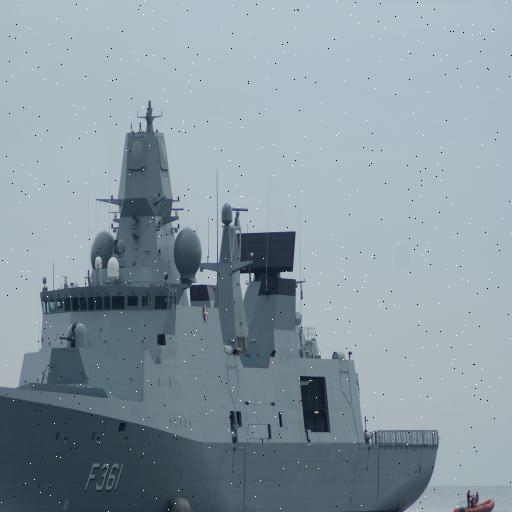Fragata: (1, 96, 442, 512)
